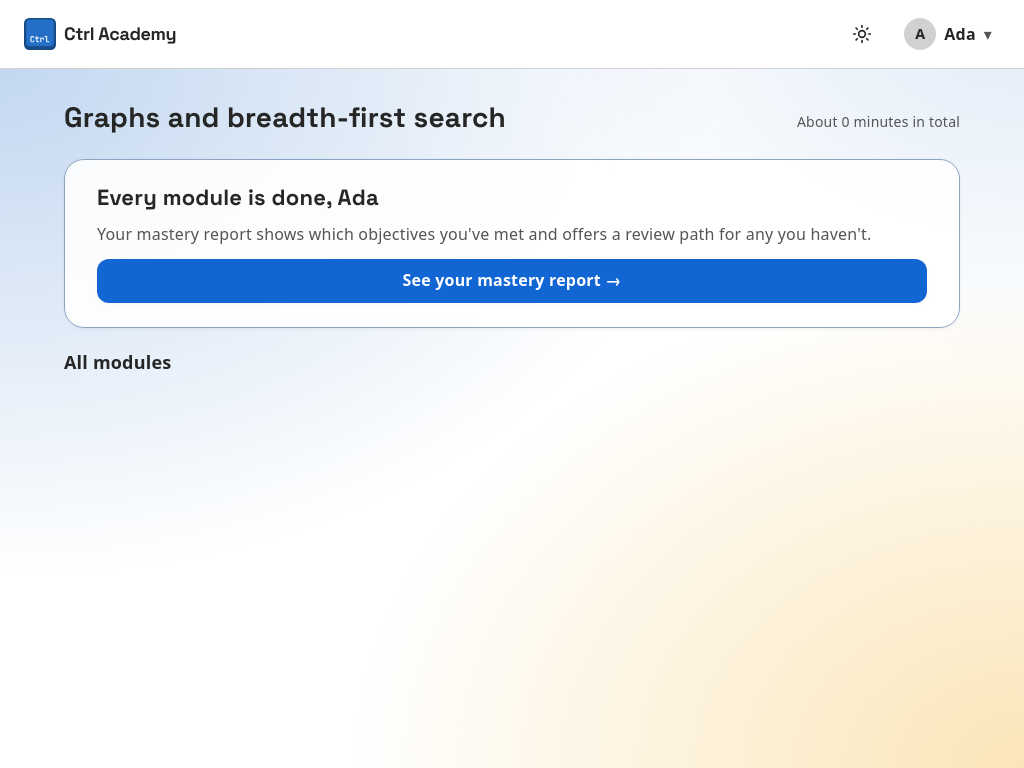
account menu › closes when Tab leaves it (A12)
Click the button named "your account".
click(948, 34)  # box 896,12 -> 1000,56
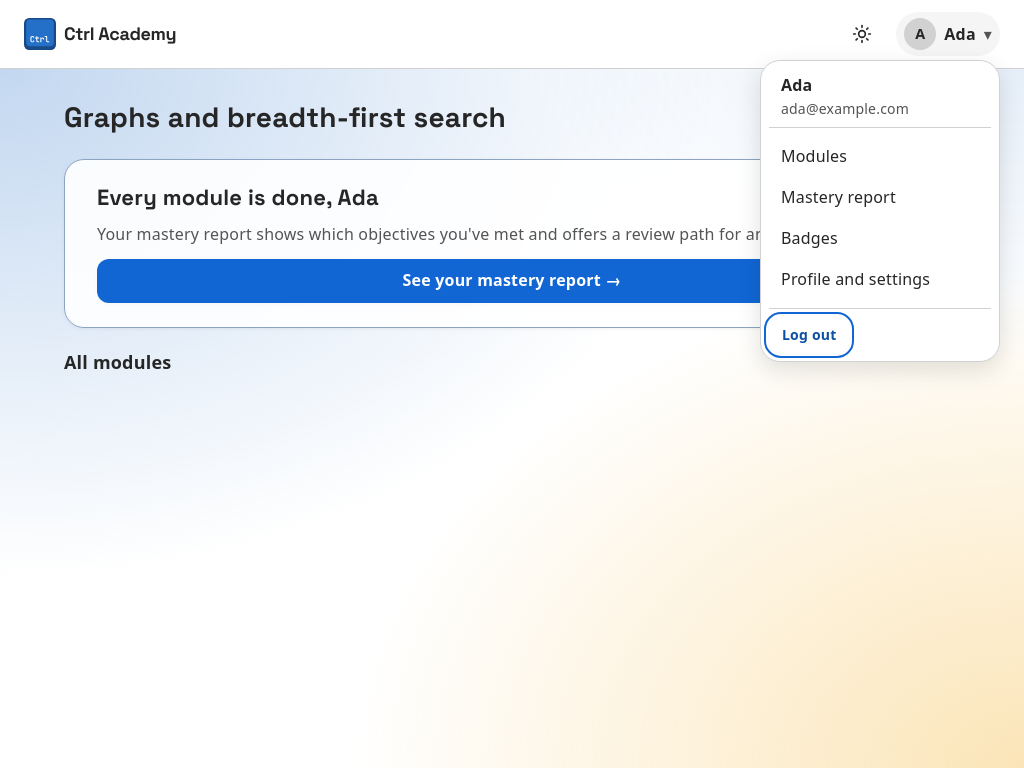
Press Tab
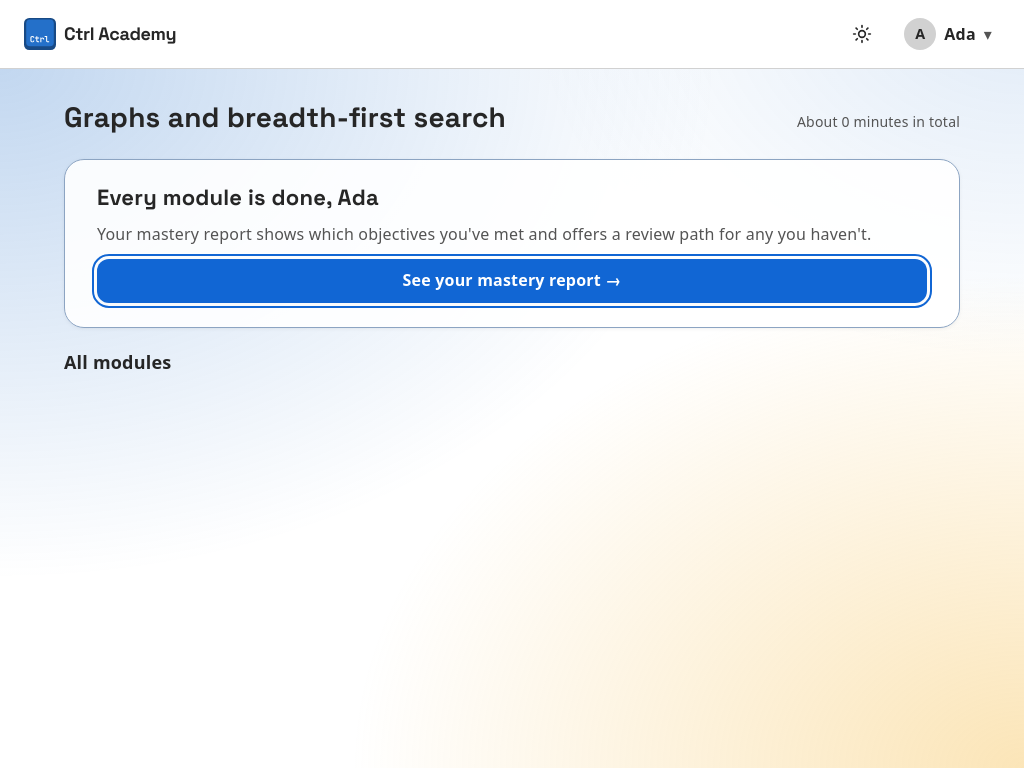
Expected: the link "Profile and settings" is gone
